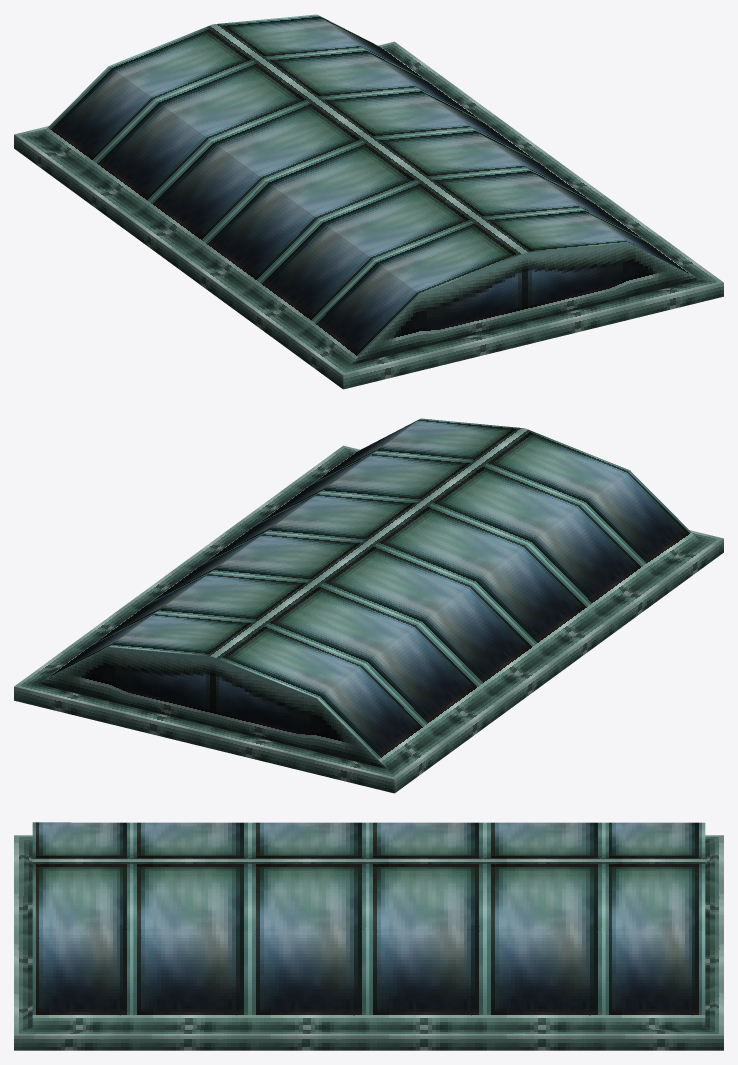
3 renders of one model, top to bottom at view 1: azimuth 30°, elevation 25°; view 2: azimuth 150°, elevation 25°; view 3: azimuth 270°, elevation 25°, orthographic. The views are drawn at different scales.
Parts seen in each view (by area): view 1: prim227-skylight; view 2: prim227-skylight; view 3: prim227-skylight.
Boxes of the visible parts, bbox=[...] form: prim227-skylight: bbox=[14, 14, 723, 389]; prim227-skylight: bbox=[14, 418, 723, 793]; prim227-skylight: bbox=[14, 822, 723, 1050].
Bounding box in the file's own units: 512 × 108 × 767.
1 material, 1 textured.
